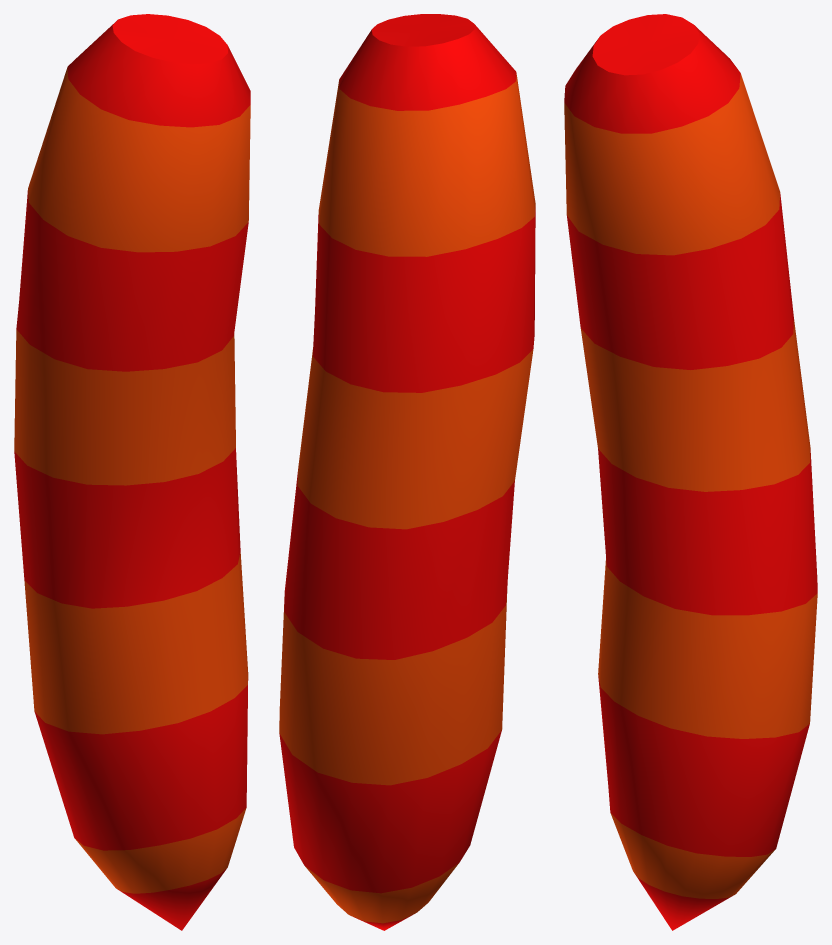
Rendered from RacoonTail.FBX.
The picture shows the model from 3 angles, left to right: view 1: azimuth 30°, elevation 25°; view 2: azimuth 150°, elevation 25°; view 3: azimuth 270°, elevation 25°; orthographic projection. The views are drawn at different scales.
Visible parts, largest first — view 1: RacoonTail001; view 2: RacoonTail001; view 3: RacoonTail001.
Part boxes in pixels (left/top/right/bottom): RacoonTail001: left=14, top=14, right=250, bottom=930; RacoonTail001: left=279, top=14, right=535, bottom=930; RacoonTail001: left=564, top=14, right=817, bottom=930.
Size of the model in its own units: 8.98 by 36.24 by 9.43.
